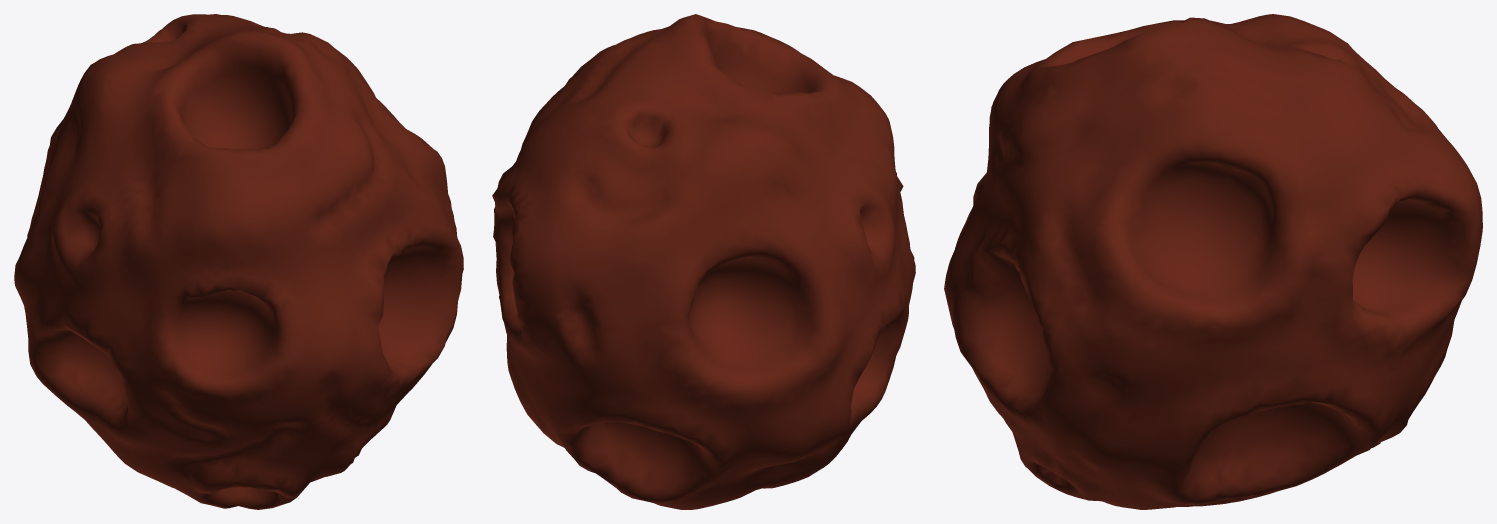
File: MeteorodaPaixao.fbx
The picture shows the model from 3 angles, left to right: view 1: azimuth 30°, elevation 25°; view 2: azimuth 150°, elevation 25°; view 3: azimuth 270°, elevation 25°; orthographic projection. The views are drawn at different scales.
Parts seen in each view (by area): view 1: Esfera icosaédrica; view 2: Esfera icosaédrica; view 3: Esfera icosaédrica.
Part boxes in pixels (<box>): Esfera icosaédrica: <box>14,14,463,509</box>; Esfera icosaédrica: <box>492,14,915,509</box>; Esfera icosaédrica: <box>944,14,1482,509</box>.
Bounding box in the file's own units: 1254 × 1455 × 1440.
